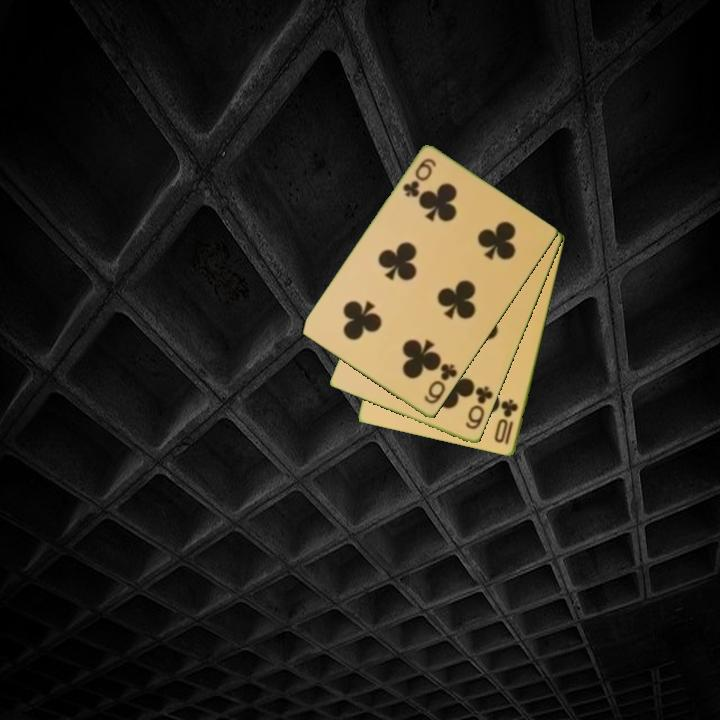10c: (491, 396, 521, 448)
6c: (420, 360, 461, 407), (399, 155, 439, 201), (462, 383, 496, 433)
